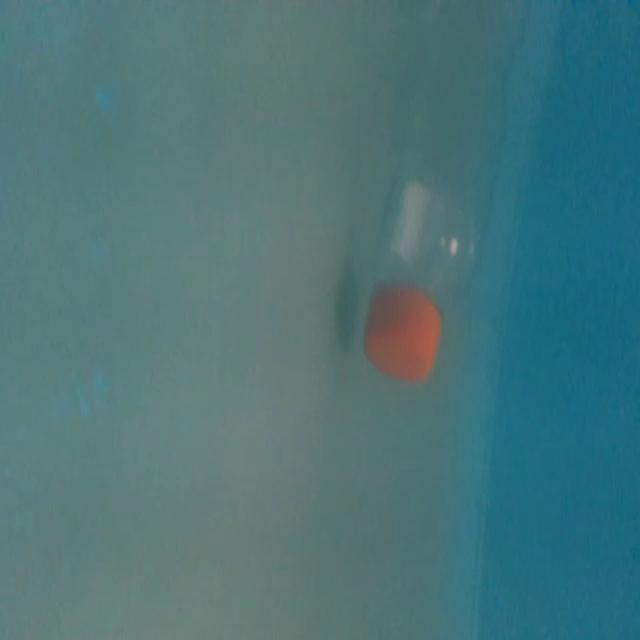plastic bottle: (355, 67, 498, 381)
